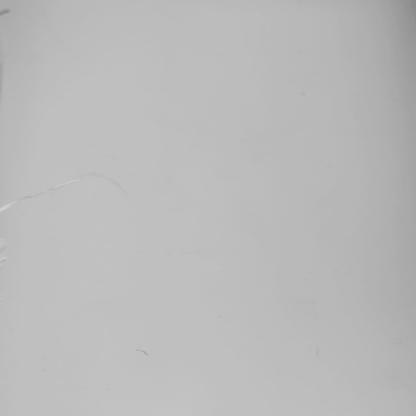sunshang: (1, 176, 78, 213)
